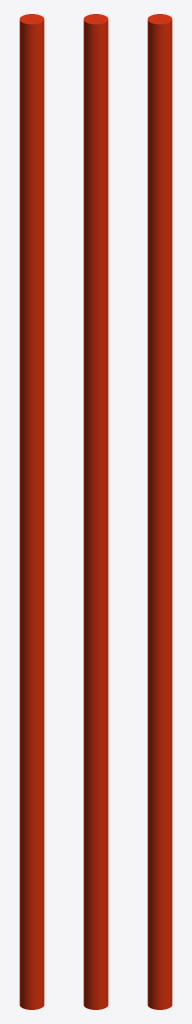
The picture shows the model from 3 angles, left to right: view 1: azimuth 90°, elevation 25°; view 2: azimuth 210°, elevation 25°; view 3: azimuth 270°, elevation 25°; orthographic projection.
Visible parts, largest first — view 1: Циліндр; view 2: Циліндр; view 3: Циліндр.
Boxes of the visible parts, bbox=[...] form: Циліндр: bbox=[19, 14, 44, 1009]; Циліндр: bbox=[83, 14, 108, 1009]; Циліндр: bbox=[147, 14, 172, 1009].
Size of the model in its own units: 0.12 by 5.29 by 0.12.
